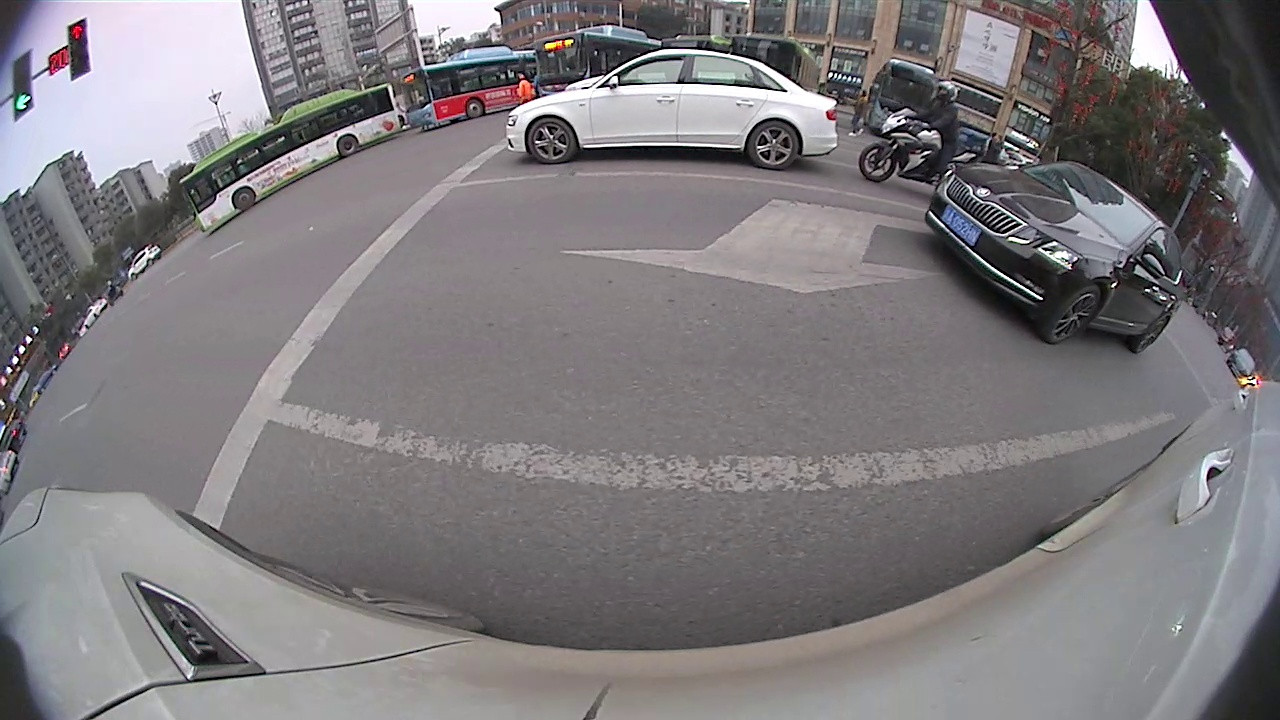bus: (178, 82, 406, 235), (400, 44, 534, 130), (530, 24, 663, 101)
car: (924, 159, 1182, 355), (504, 47, 840, 171), (126, 242, 164, 284)
front: (1040, 284, 1105, 347), (523, 112, 580, 167), (854, 142, 899, 187), (228, 188, 259, 212), (462, 96, 485, 120)
rear: (746, 115, 801, 172), (1131, 312, 1170, 357), (335, 133, 360, 158)
rider: (858, 80, 963, 185)
